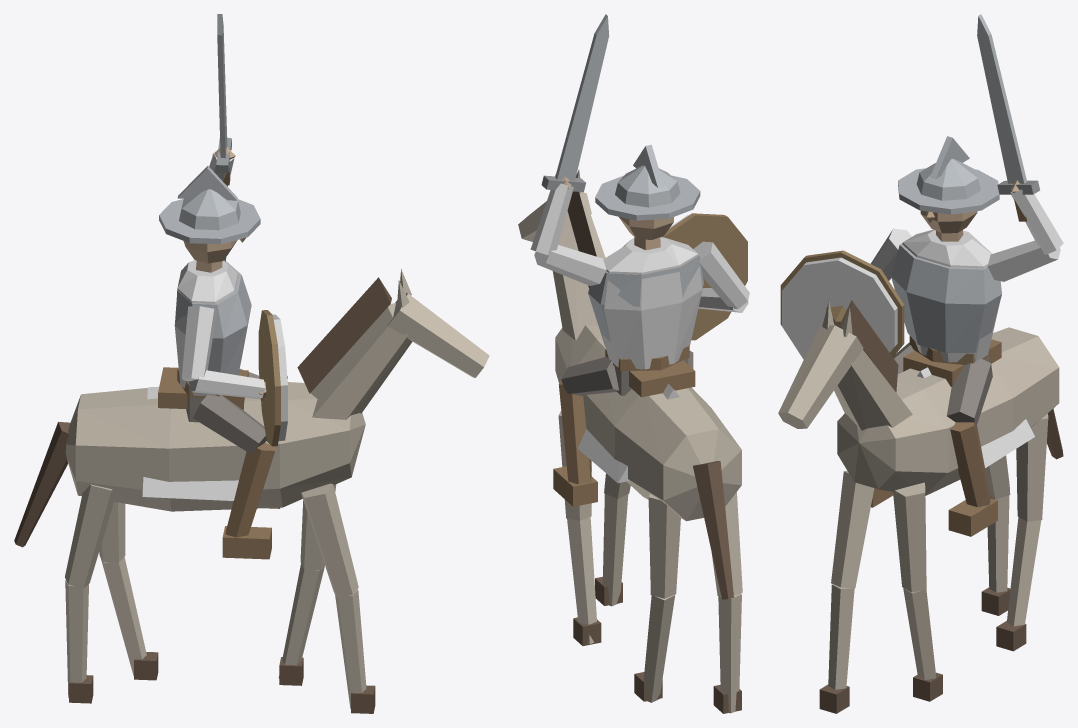
The model's file is conquistador.glb.
3 views of the same model, side by side, from view 1: azimuth 30°, elevation 25°; view 2: azimuth 150°, elevation 25°; view 3: azimuth 270°, elevation 25° (orthographic).
Visible parts, largest first — view 1: LOD0; view 2: LOD0; view 3: LOD0.
Boxes of the visible parts, <box> form: LOD0: <box>14,14,489,713</box>; LOD0: <box>518,14,749,713</box>; LOD0: <box>778,14,1063,713</box>.
Size of what is drawn, in the model's own units: 0.9264 by 1.7 by 0.667.
